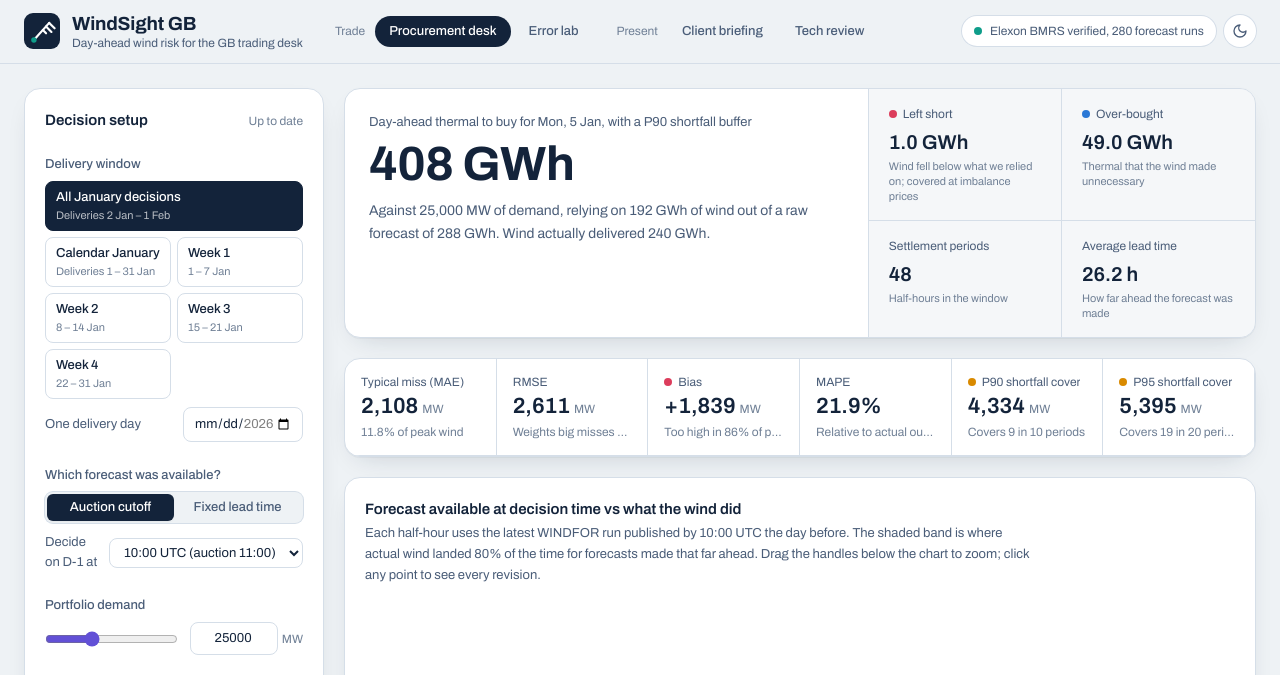
it: shell › toggles the theme and jumps between workspaces with number keys
Check: the element with test id "kpi-strip" is shown, box [344,358,1256,457]
Click the button named "Switch to dark theme".
click(1240, 31)  # box [1224,15,1256,47]
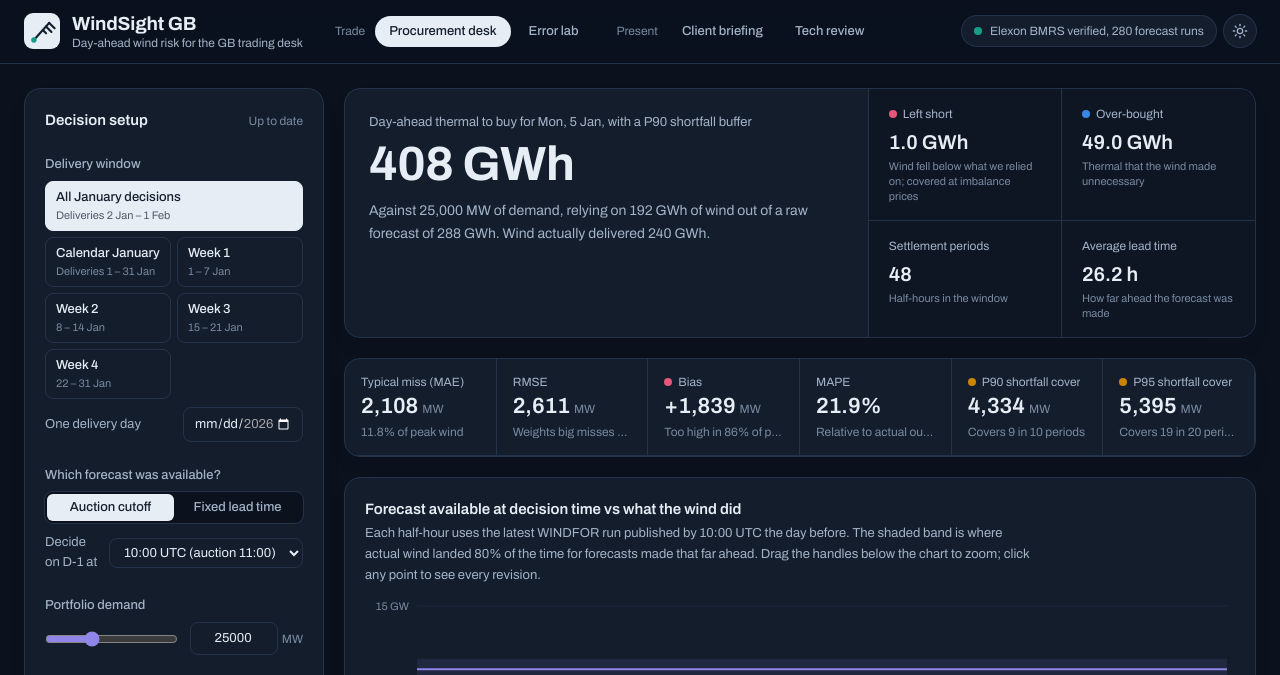
Press 4
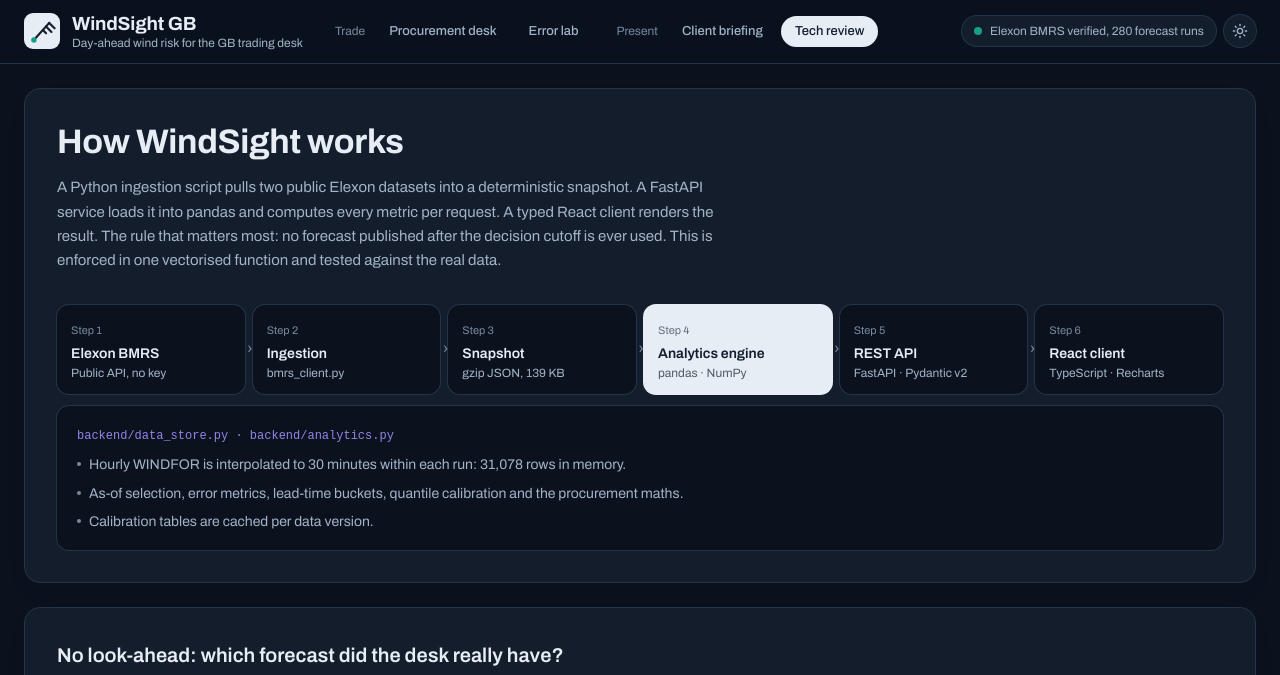
Check: the tab "Tech review" is selected, box [781,16,878,47]
Press 2
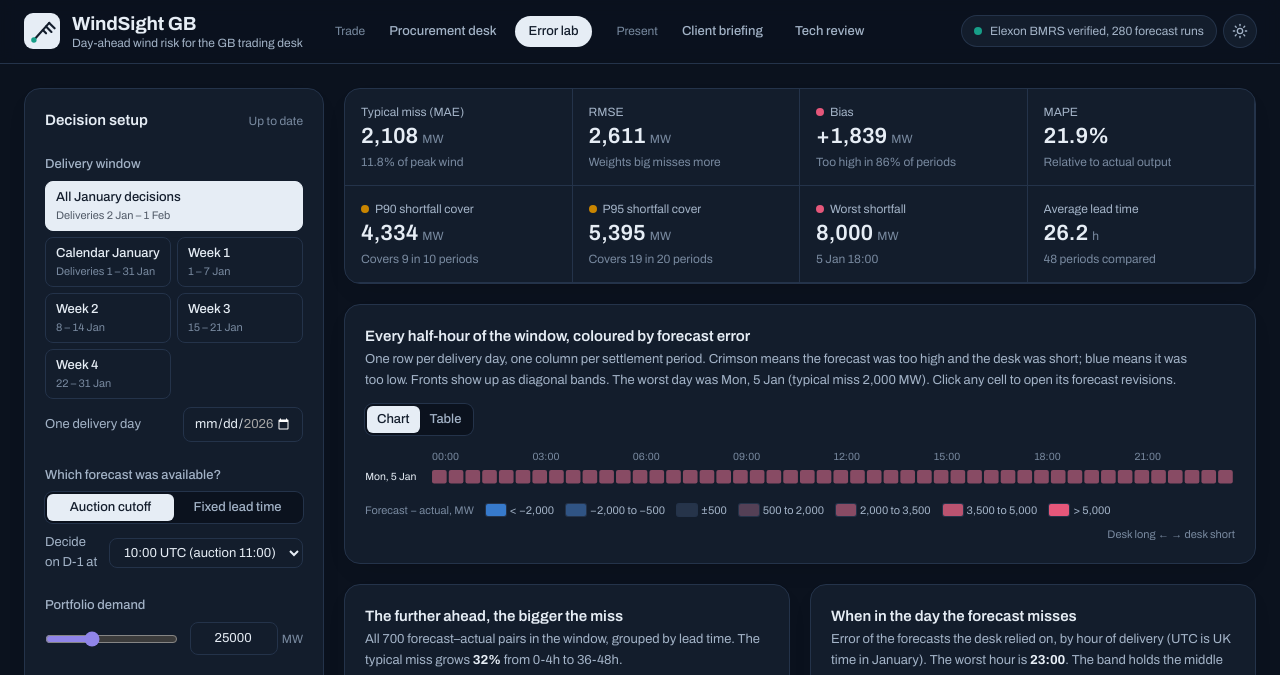
Check: the picture named "Forecast error by delivery day and settlement period" is shown, box [365,447,1235,490]
